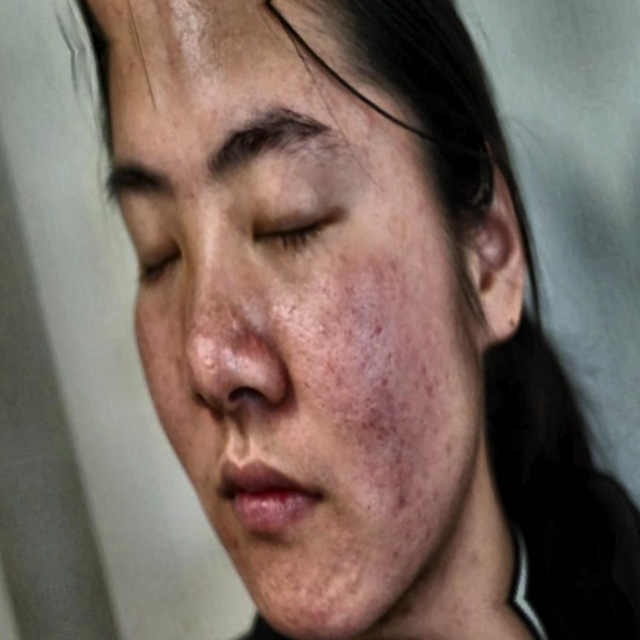comedone: (231, 320, 271, 374), (354, 104, 382, 143)
